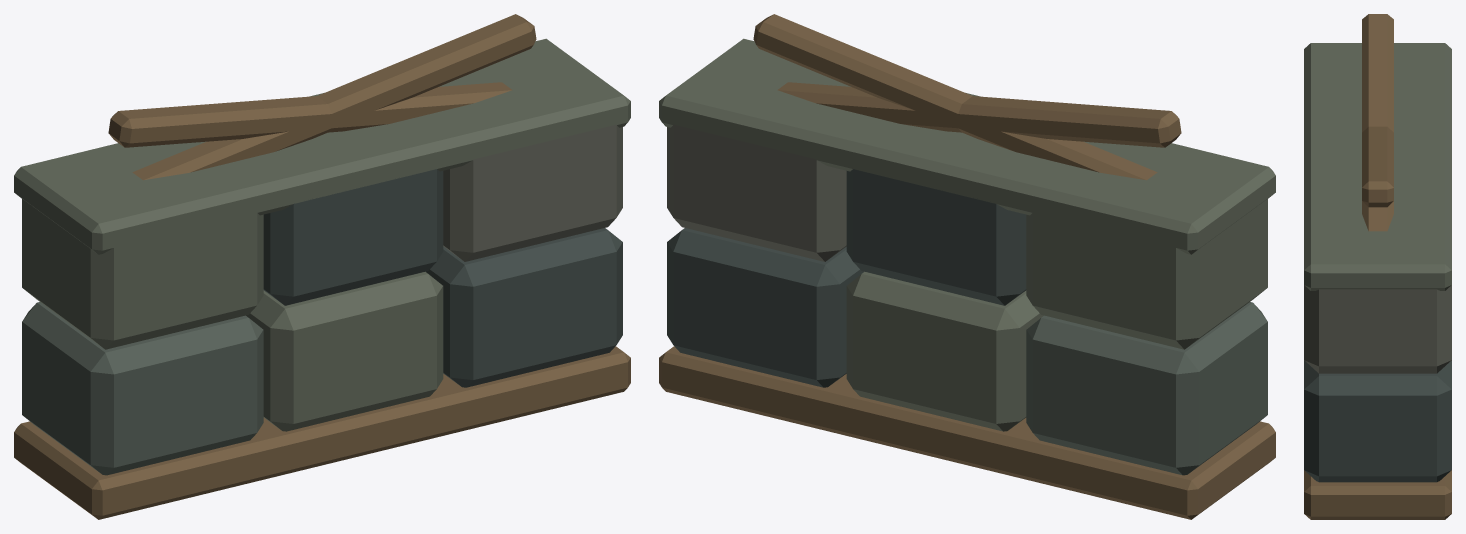
The model's file is low-wall.glb.
3 renders of one model, left to right at view 1: azimuth 30°, elevation 25°; view 2: azimuth 150°, elevation 25°; view 3: azimuth 270°, elevation 25°, orthographic. The views are drawn at different scales.
Visible parts, largest first — view 1: Vault_low_wall_Stone_lichen, Vault_low_wall_Weathered_oak, Low_barrier_stone (×2), Vault_low_wall_Stone_shade; view 2: Vault_low_wall_Stone_lichen, Vault_low_wall_Weathered_oak, Low_barrier_stone (×2), Vault_low_wall_Stone_shade; view 3: Vault_low_wall_Stone_lichen, Vault_low_wall_Stone_shade, Vault_low_wall_Weathered_oak, Low_barrier_stone.
Part boxes in pixels (x1,y1,x2,y2): Vault_low_wall_Stone_lichen: (14,38,630,431); Vault_low_wall_Weathered_oak: (14,14,630,519); Low_barrier_stone (×2): (22,124,622,475); Vault_low_wall_Stone_shade: (263,169,622,387); Vault_low_wall_Stone_lichen: (659,38,1275,431); Vault_low_wall_Weathered_oak: (659,14,1275,519); Low_barrier_stone (×2): (667,124,1267,475); Vault_low_wall_Stone_shade: (667,169,1026,387); Vault_low_wall_Stone_lichen: (1304,43,1451,290); Vault_low_wall_Stone_shade: (1304,360,1451,482); Vault_low_wall_Weathered_oak: (1304,14,1451,519); Low_barrier_stone: (1304,285,1451,373).
Bounding box in the file's own units: 2 × 1.28 × 0.55.
